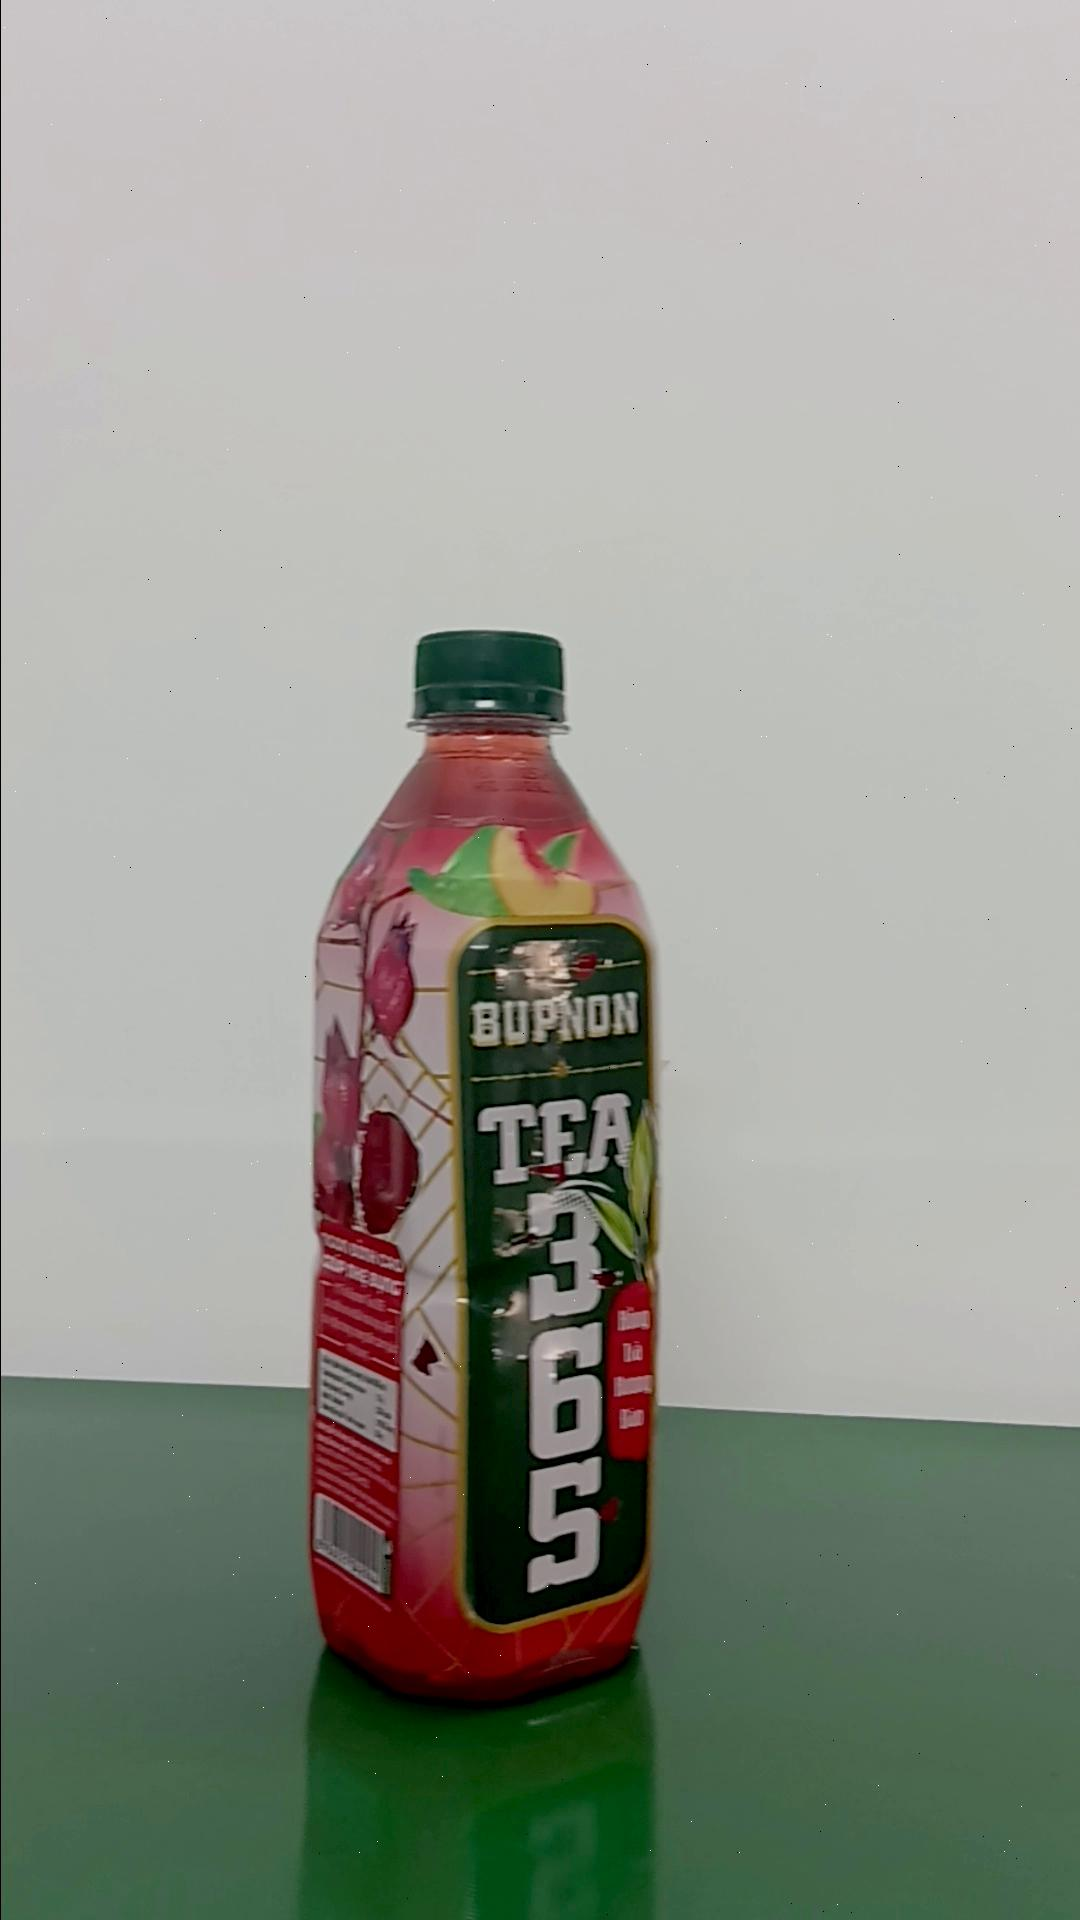loi rach va lap chai: (306, 624, 655, 1708)
